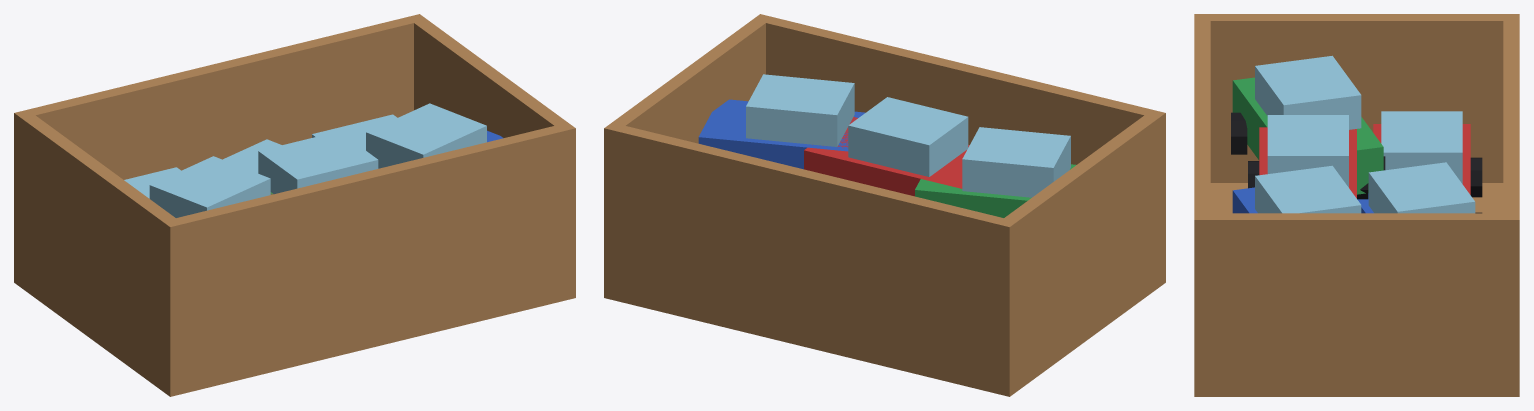
The model's file is toy_car_box.glb.
The picture shows the model from 3 angles, left to right: view 1: azimuth 30°, elevation 25°; view 2: azimuth 150°, elevation 25°; view 3: azimuth 270°, elevation 25°; orthographic projection. The views are drawn at different scales.
Parts seen in each view (by area): view 1: sides_box_card, cabin_toy_glass (×6), bottom_box_card; view 2: sides_box_card, cabin_toy_glass (×3), bottom_box_card, body_toy_car_d23a3a, body_toy_car_3a6ad0, body_toy_car_3aa85a; view 3: sides_box_card, cabin_toy_glass (×5), bottom_box_card, body_toy_car_3aa85a, body_toy_car_d23a3a (×2), wheels_toy_wheel (×3), body_toy_car_3a6ad0.
Part boxes in pixels (left/top/right/bottom): sides_box_card: left=14, top=14, right=575, bottom=396; cabin_toy_glass (×6): left=124, top=103, right=486, bottom=217; bottom_box_card: left=14, top=269, right=575, bottom=396; sides_box_card: left=604, top=14, right=1165, bottom=396; cabin_toy_glass (×3): left=746, top=74, right=1070, bottom=197; bottom_box_card: left=604, top=269, right=1165, bottom=396; body_toy_car_d23a3a: left=804, top=117, right=969, bottom=196; body_toy_car_3a6ad0: left=698, top=99, right=865, bottom=169; body_toy_car_3aa85a: left=915, top=164, right=1075, bottom=217; sides_box_card: left=1194, top=14, right=1519, bottom=396; cabin_toy_glass (×5): left=1255, top=55, right=1475, bottom=213; bottom_box_card: left=1194, top=183, right=1519, bottom=396; body_toy_car_3aa85a: left=1232, top=77, right=1383, bottom=194; body_toy_car_d23a3a (×2): left=1259, top=124, right=1470, bottom=198; wheels_toy_wheel (×3): left=1231, top=112, right=1482, bottom=213; body_toy_car_3a6ad0: left=1232, top=187, right=1257, bottom=213.
Size of the model in its own units: 0.3 by 0.12 by 0.2.
